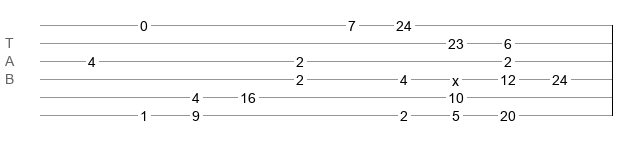0: (140, 18, 148, 28)
1: (140, 108, 148, 118)
10: (448, 90, 464, 100)
12: (500, 72, 516, 82)
16: (240, 90, 256, 100)
2: (296, 54, 304, 64), (296, 72, 304, 82), (400, 108, 408, 118), (504, 54, 512, 64)
20: (500, 108, 516, 118)
23: (448, 36, 464, 46)
24: (396, 18, 412, 28), (552, 72, 568, 82)
4: (88, 54, 96, 64), (192, 90, 200, 100), (400, 72, 408, 82)
5: (452, 108, 460, 118)
6: (504, 36, 512, 46)
7: (348, 18, 356, 28)
9: (192, 108, 200, 118)
x: (452, 73, 459, 81)
